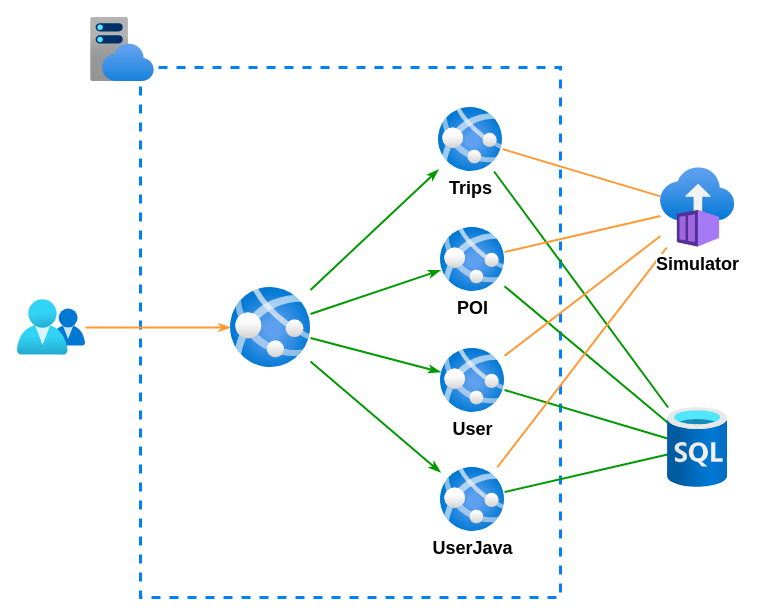
Image size: 771x616. Some labels were removed from this diagram. Each missing label, with the box of its shape:
App Service Plan (Linux): (90, 17, 154, 81)
mydrivingDB: (667, 407, 727, 487)
Tripviewer: (230, 287, 310, 367)
